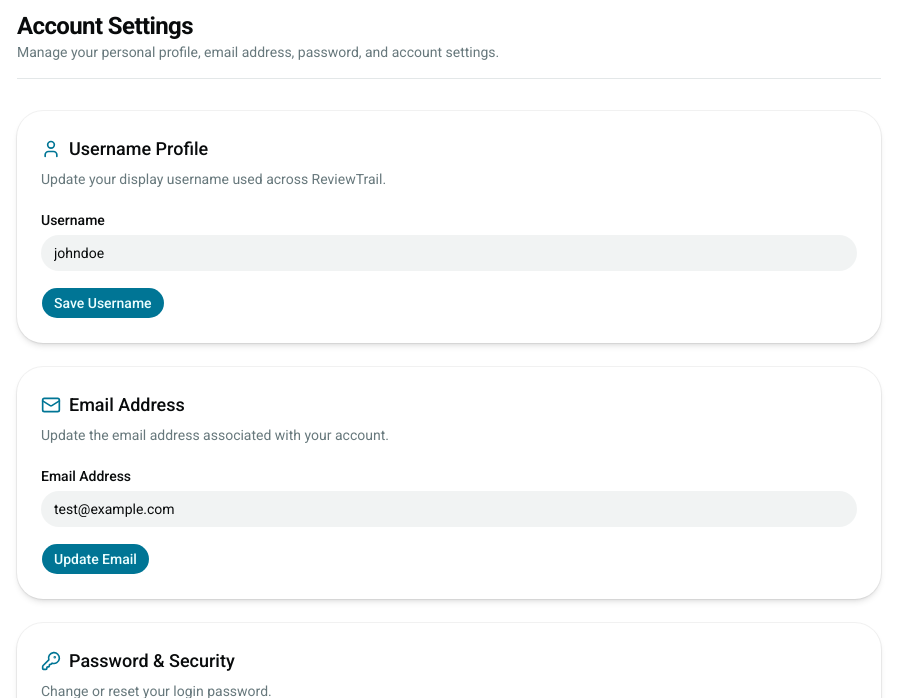
Test case: SettingsPage Component › Username Form › handles successful username update
The image size is (899, 698).
Replace the text in the field labelled "Username" with "newusername" at (449, 253), box [41,235,857,271]
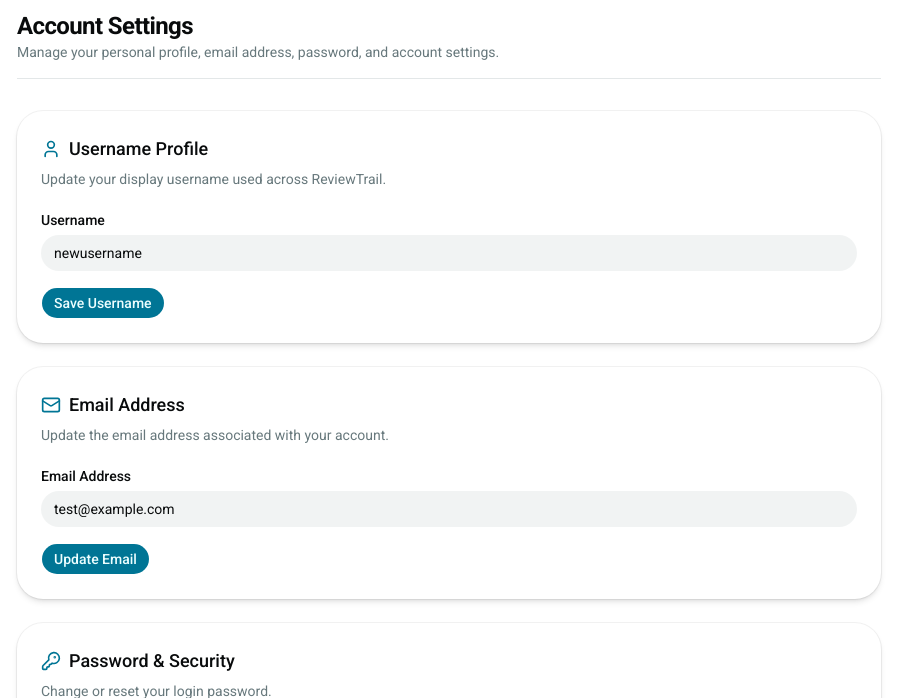
Click the button "Save Username".
click(103, 303)  # box [41,287,165,319]
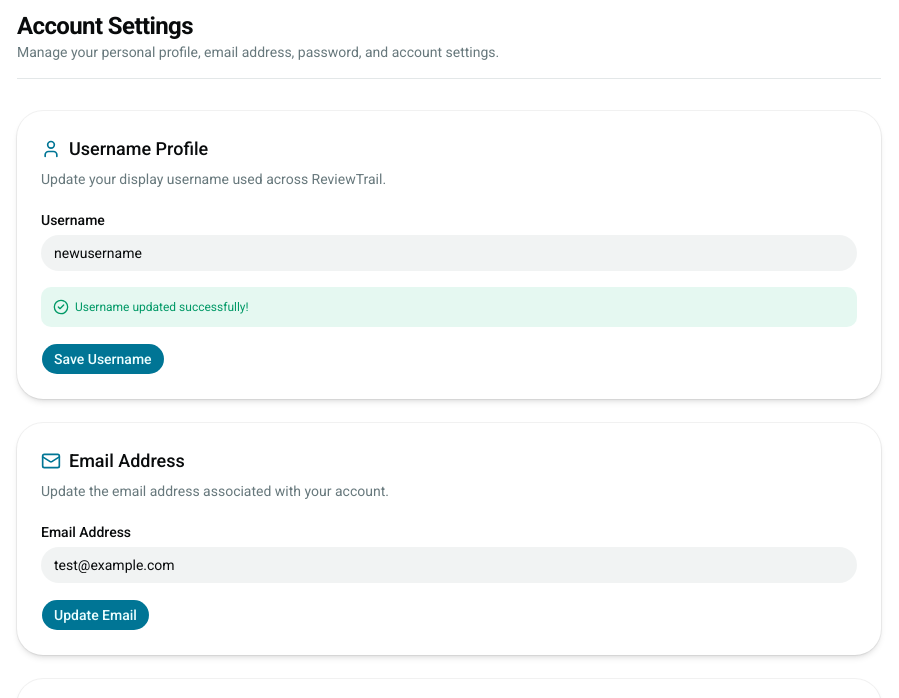
Result: the text "Username updated successfully!" is shown at [75,299,249,315]
